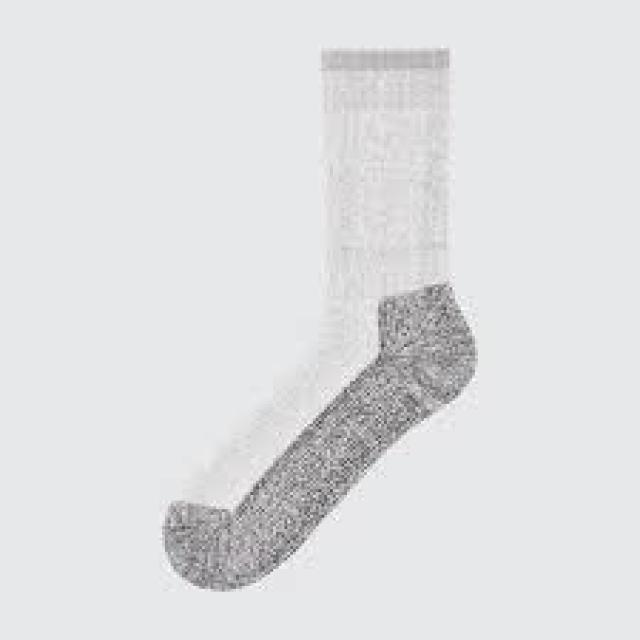sock: (159, 278, 478, 592)
